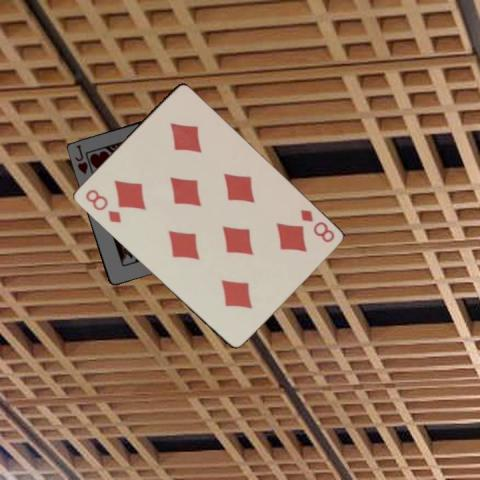8d: (82, 186, 123, 225), (297, 206, 335, 244)
Jh: (72, 142, 89, 175)
